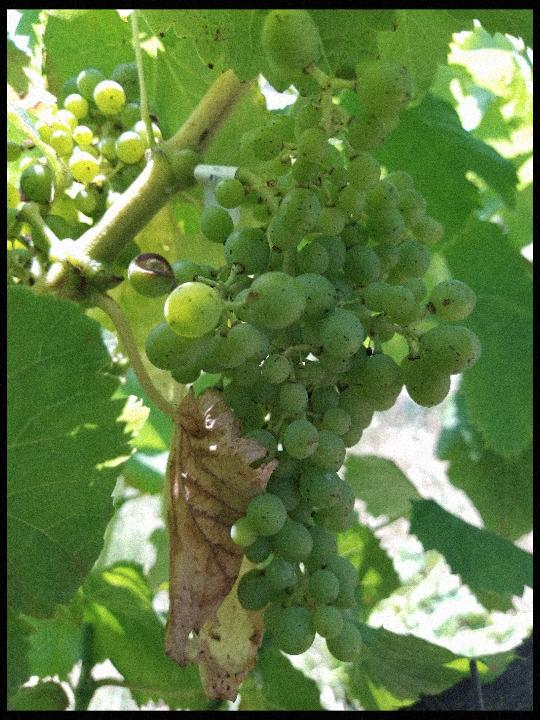grape: (123, 12, 484, 667)
